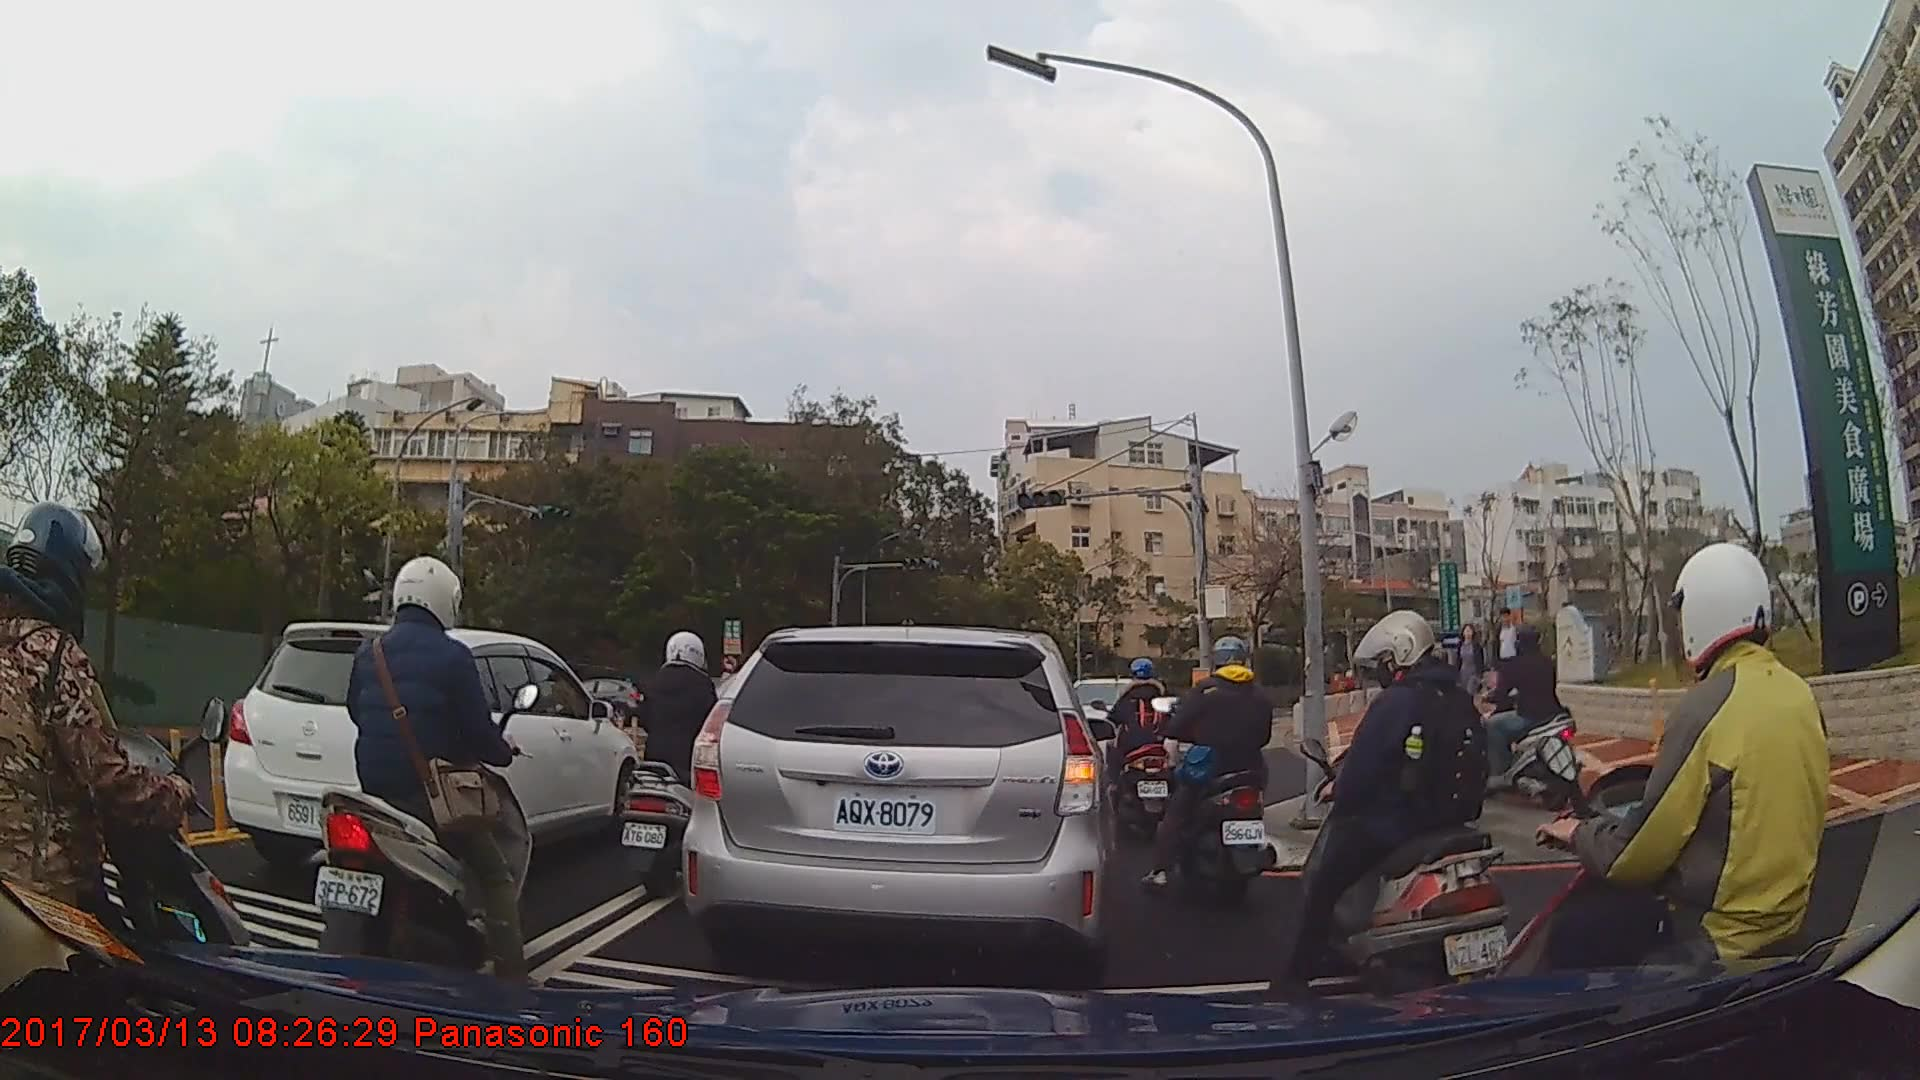pedestrian: (1487, 610, 1531, 723), (1454, 625, 1490, 723)
rider: (1479, 545, 1871, 1080), (1, 500, 259, 1052), (306, 548, 533, 998), (1271, 609, 1524, 1012), (619, 630, 753, 909), (1148, 639, 1281, 906), (1460, 622, 1583, 811), (1093, 655, 1181, 845)
vehicle: (675, 625, 1114, 982), (222, 619, 639, 881), (1059, 676, 1164, 784), (556, 678, 645, 726)
